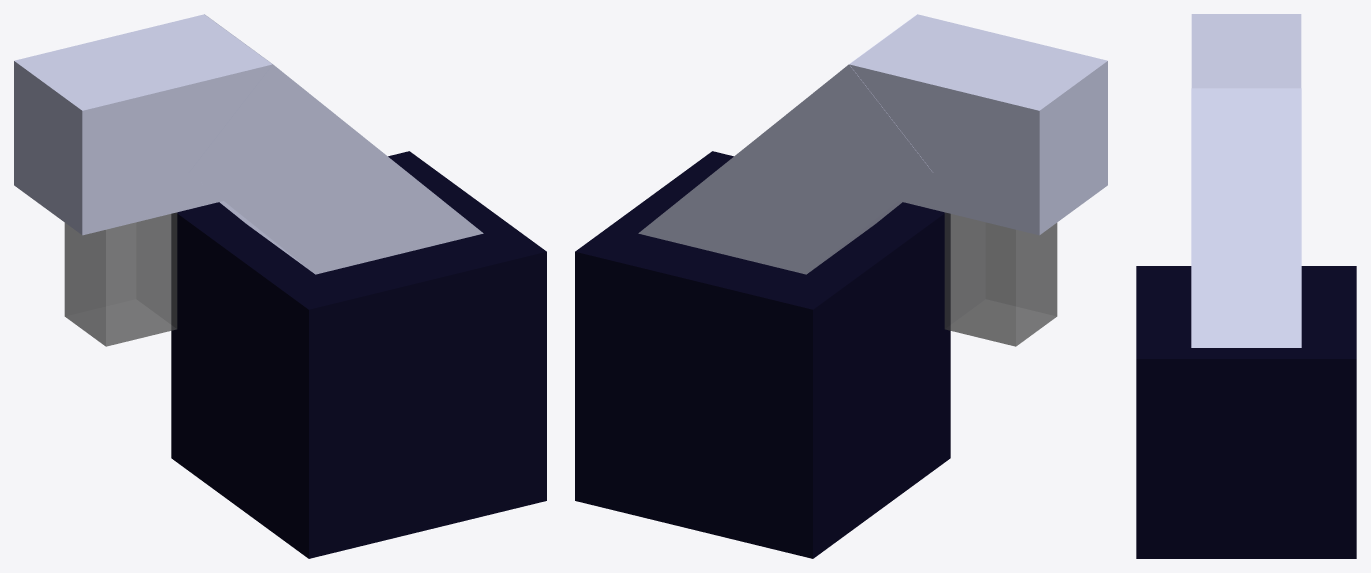
The model's file is OBJ_IronMine.fbx.
3 views of the same model, side by side, from view 1: azimuth 30°, elevation 25°; view 2: azimuth 150°, elevation 25°; view 3: azimuth 270°, elevation 25° (orthographic). The views are drawn at different scales.
Visible parts, largest first — view 1: IronMine; view 2: IronMine; view 3: IronMine.
Part boxes in pixels (x1=…): IronMine: x1=14, y1=14, x2=546, y2=558; IronMine: x1=575, y1=14, x2=1107, y2=558; IronMine: x1=1136, y1=14, x2=1356, y2=558.
Bounding box in the file's own units: 181 × 189 × 100.
